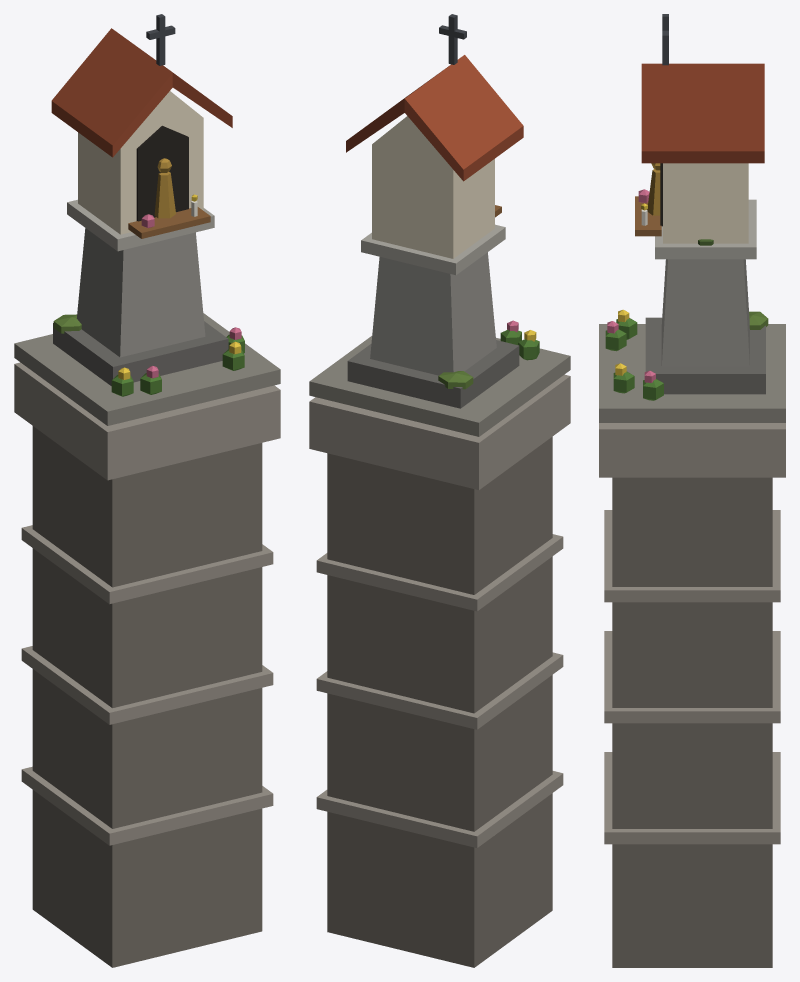
The model's file is decor_roadside_shrine.glb.
3 renders of one model, left to right at view 1: azimuth 30°, elevation 25°; view 2: azimuth 150°, elevation 25°; view 3: azimuth 270°, elevation 25°, orthographic. The views are drawn at different scales.
Visible parts, largest first — view 1: decor_roadside_shrine; view 2: decor_roadside_shrine; view 3: decor_roadside_shrine.
Boxes of the visible parts, box(x1,y1,x2,y2) form: decor_roadside_shrine: box(14, 14, 280, 967); decor_roadside_shrine: box(309, 14, 570, 967); decor_roadside_shrine: box(599, 14, 785, 967).
Size of the model in its own units: 1.5 by 7.57 by 1.4.
